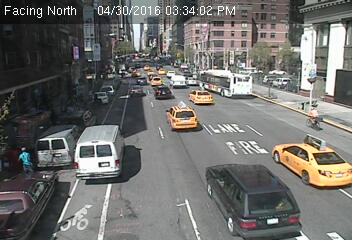neg: (303, 100, 326, 131), (182, 112, 201, 137)
pos: (13, 144, 36, 175)
